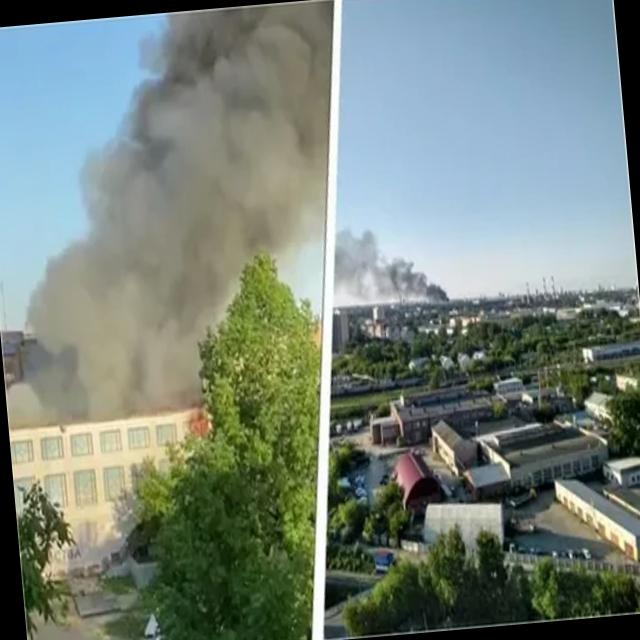Smoke: (0, 1, 330, 424), (340, 224, 451, 312)
